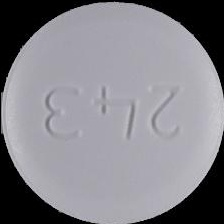63187-326: (0, 0, 224, 224)
